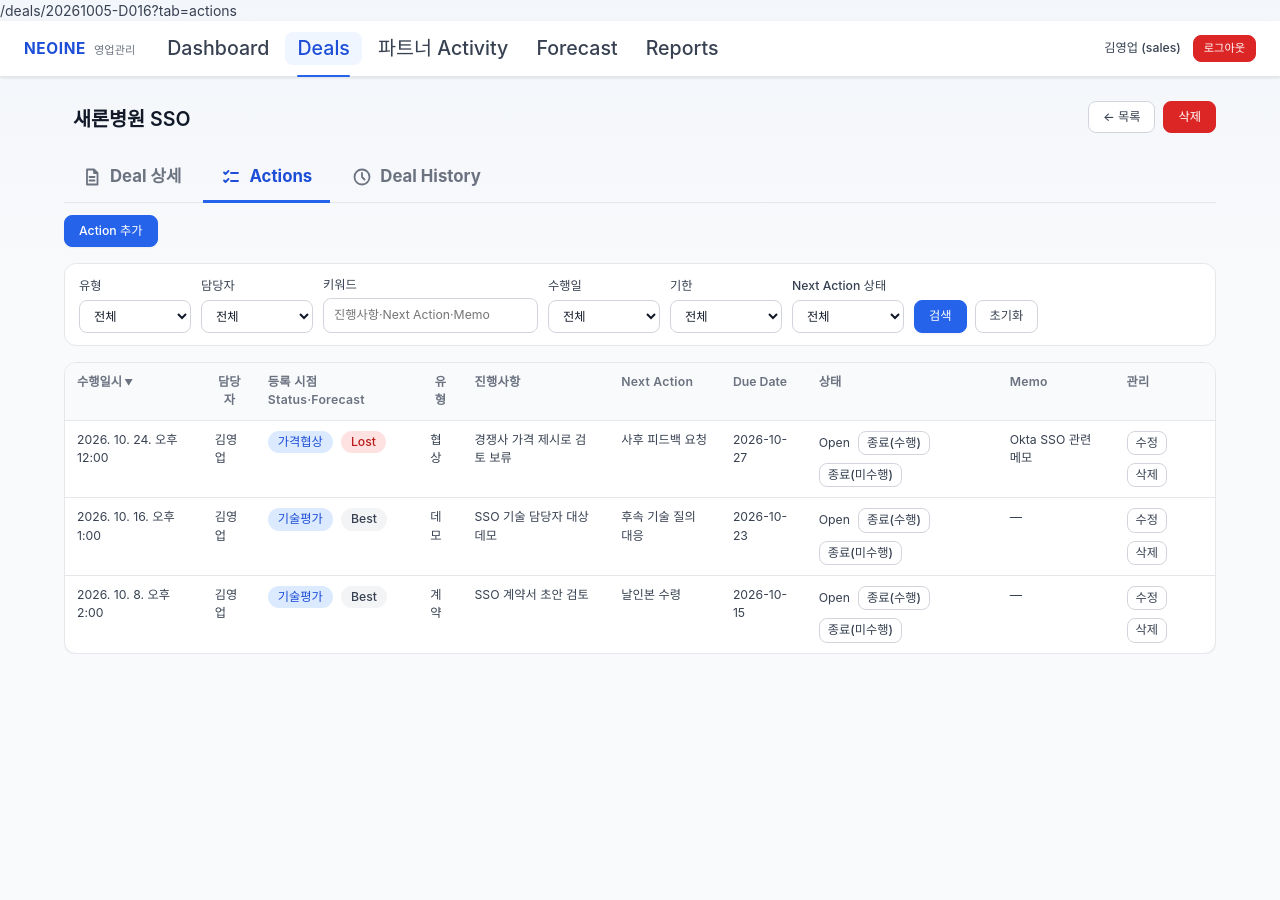
Test case: 두 번째 변경이 첫 변경과 충돌 (AC-16) › accepts_the_choice_that_keeps_the_first_value_and_preselects_it
Expected: the heading "새론병원 SSO" is shown, 64,101 -> 200,138
Click the button "Action 추가": (111, 231) 64,215 -> 158,247
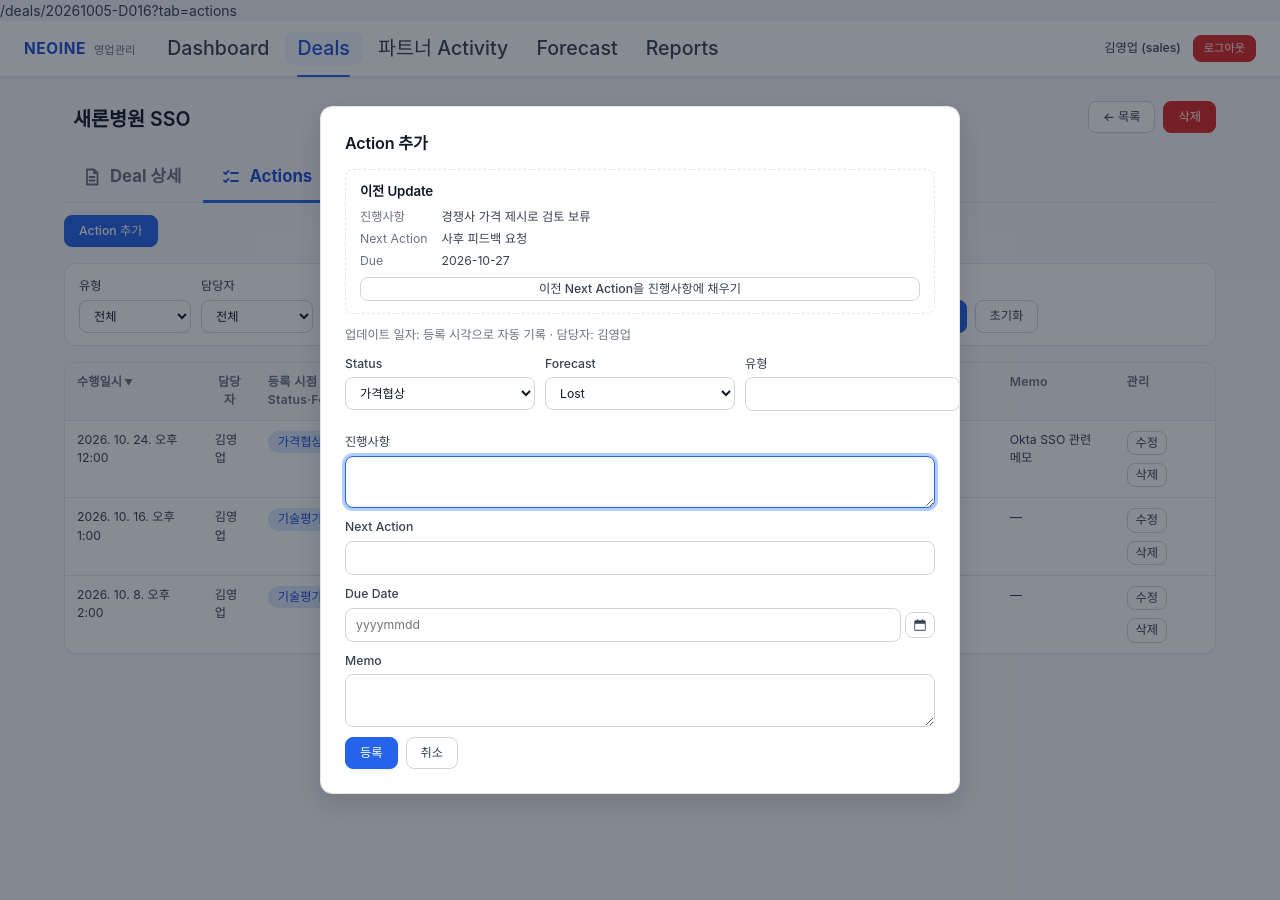
Select "기술평가" in the dropdown labelled "Status": (440, 393) 345,377 -> 535,410
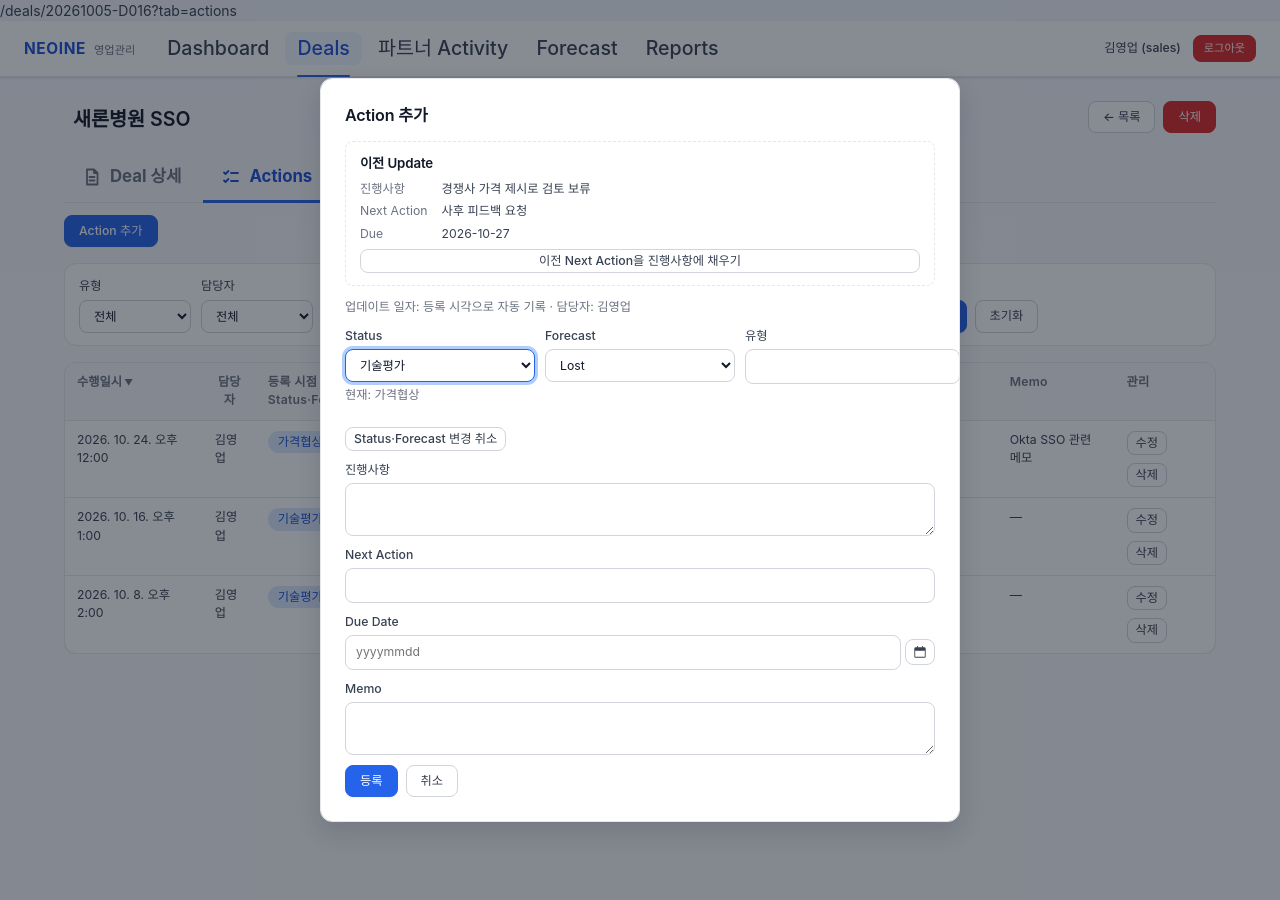
Select "Commit" in the dropdown labelled "Forecast": (640, 366) 545,349 -> 735,382
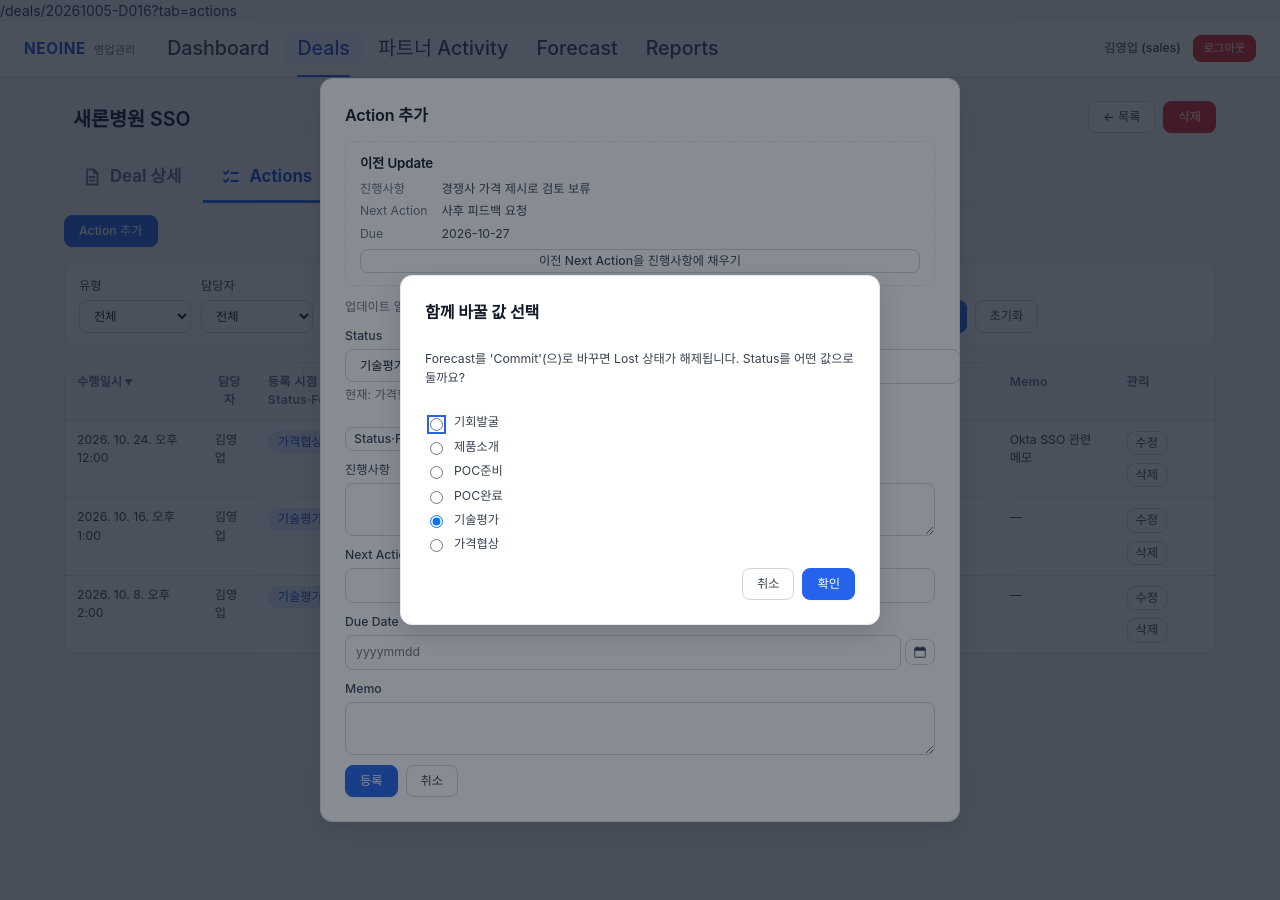
Result: the radio button labelled "기술평가" is checked at 430,515 -> 443,528
Click the button "확인": (829, 584) 802,568 -> 855,600
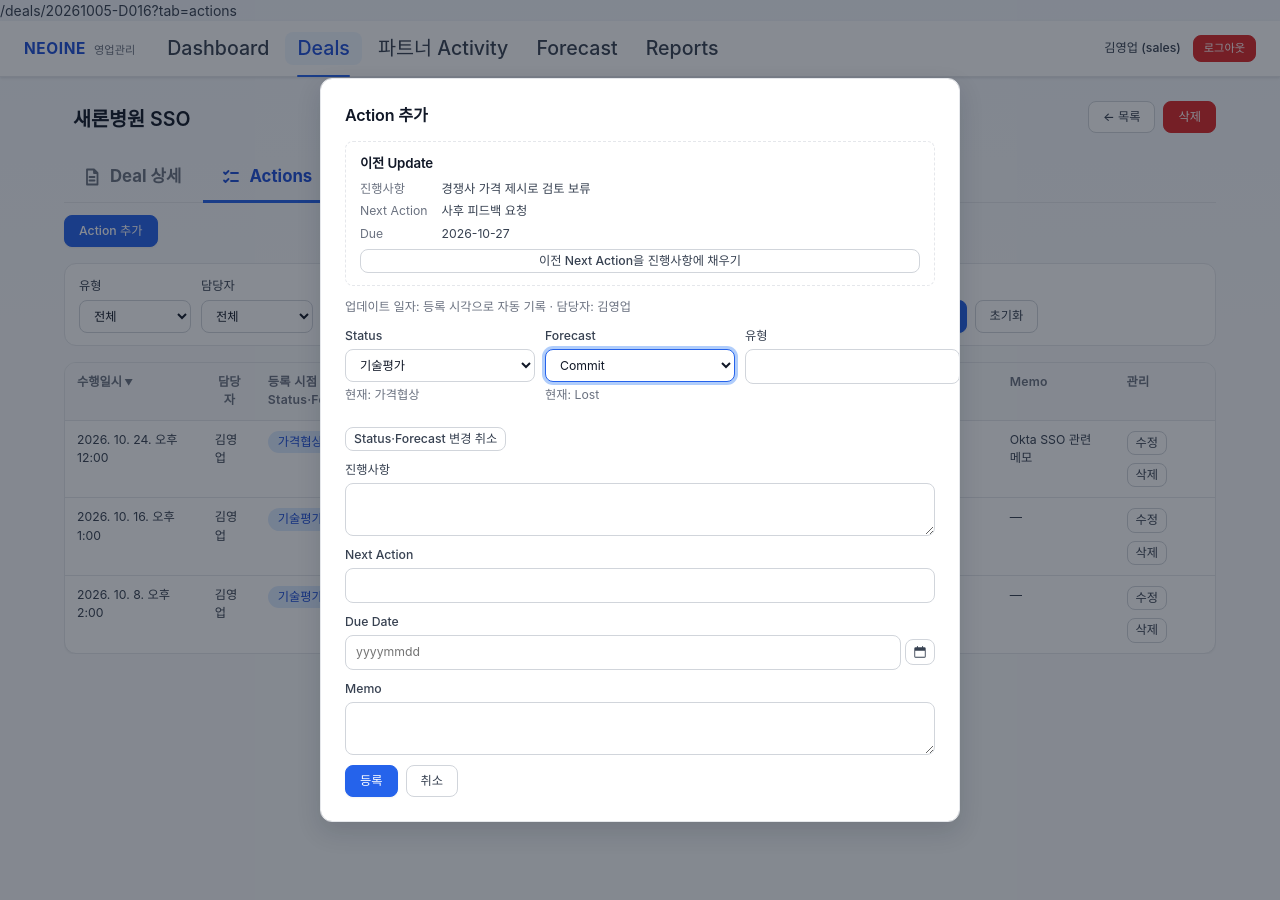
Result: the number of dialogs is 1 at 320,78 -> 960,822
